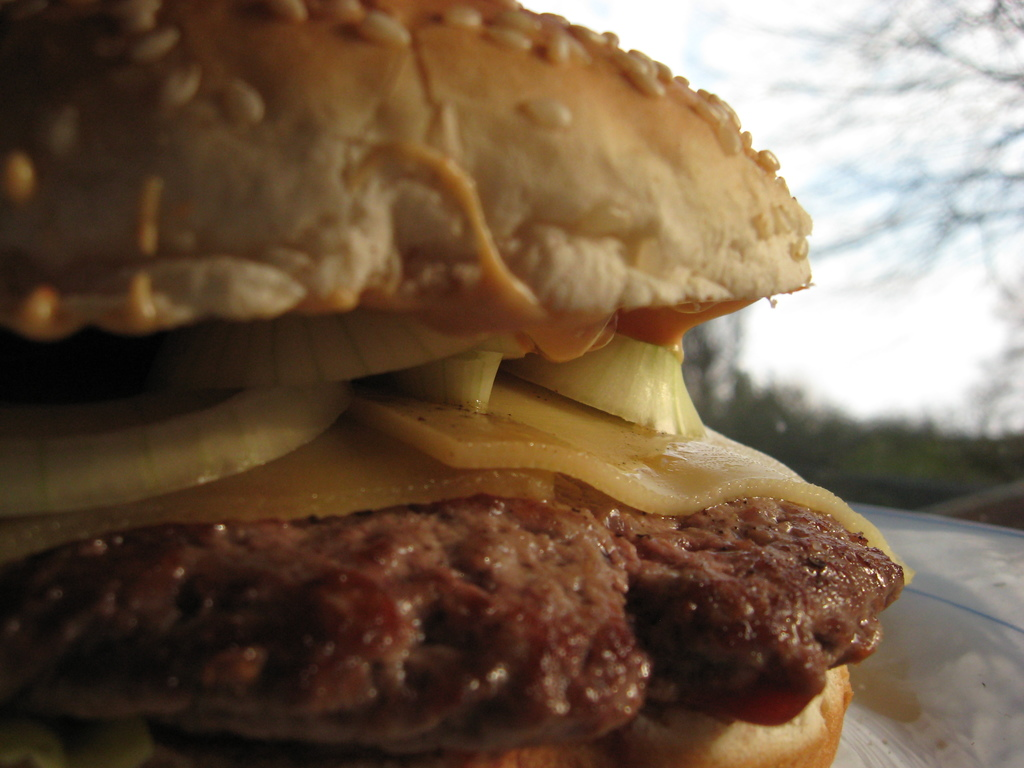Hamburger: (0, 0, 913, 767)
